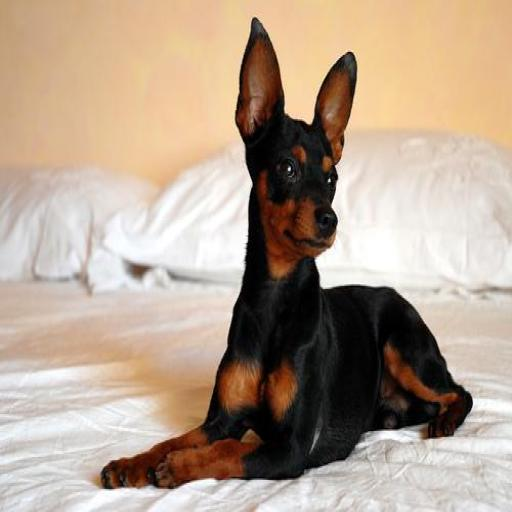dog_face: (226, 14, 356, 260)
